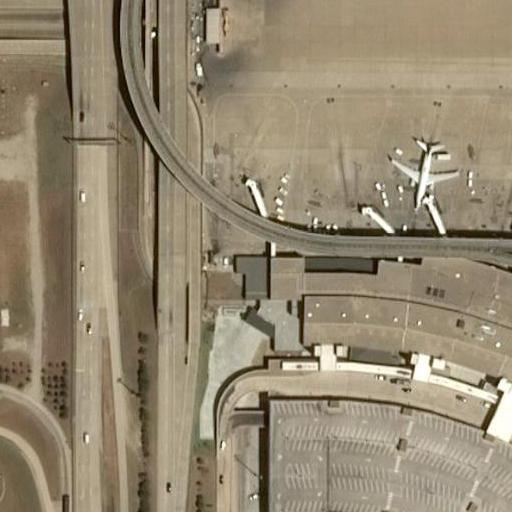Aircraft: (387, 137, 458, 214)
